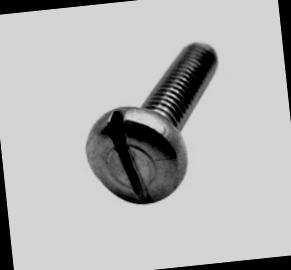screw: (84, 99, 192, 210)
